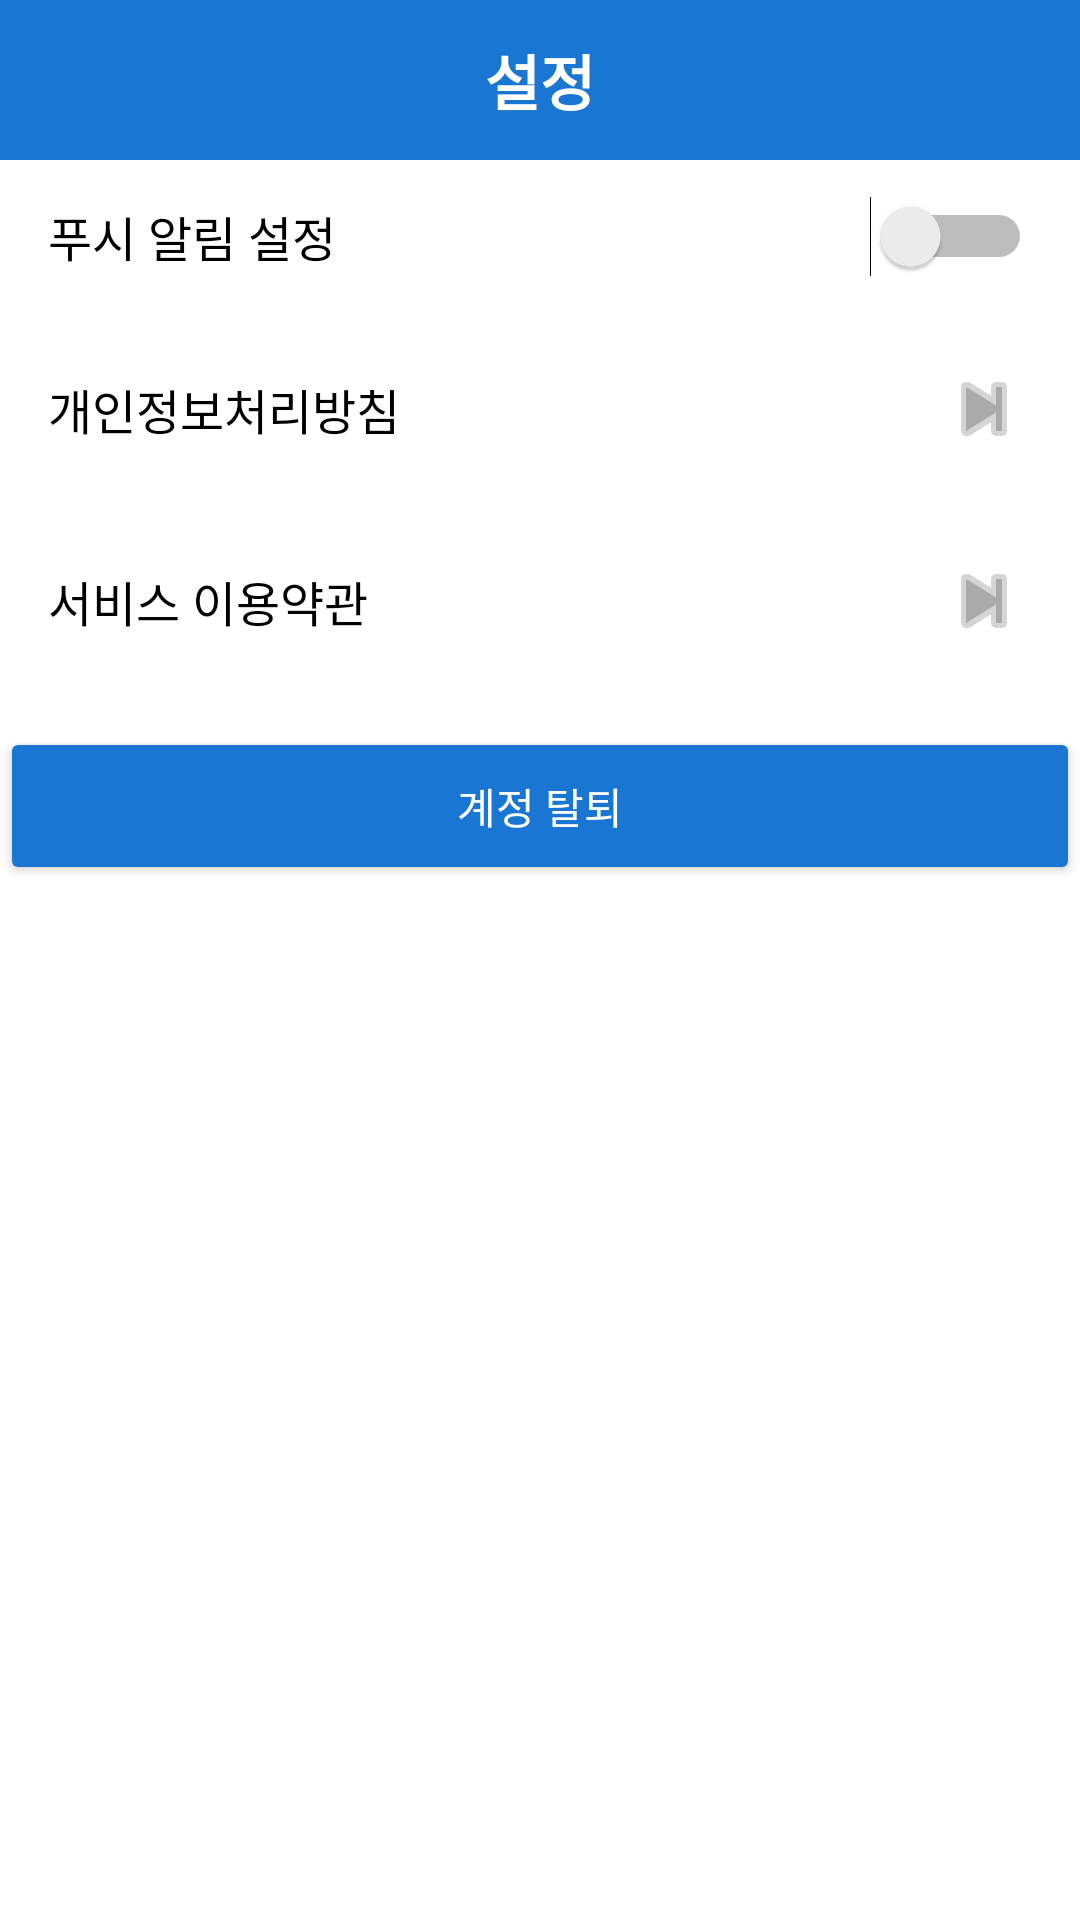

Point at icon controls on the screen. Image size 1080px x 1920px, points as point (x, y).
next: point (984, 409), point (984, 601)
